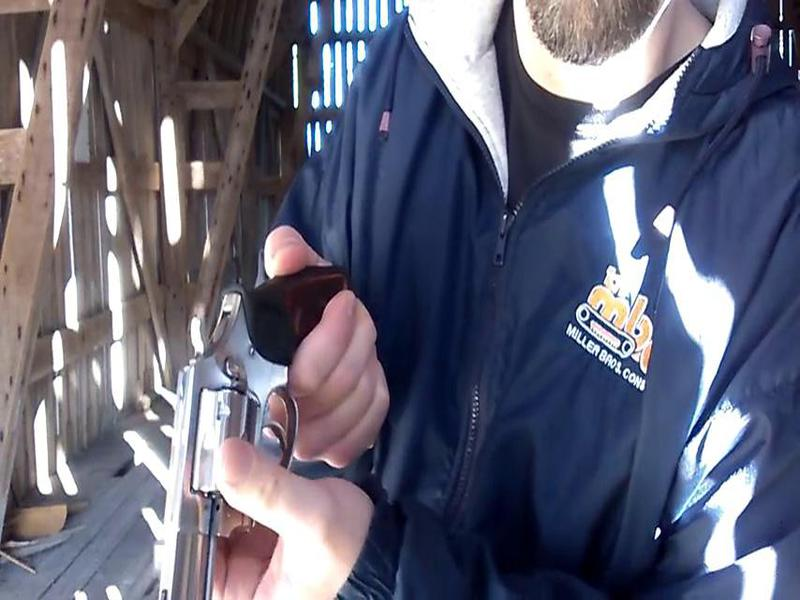Revolver: (145, 267, 373, 600)
